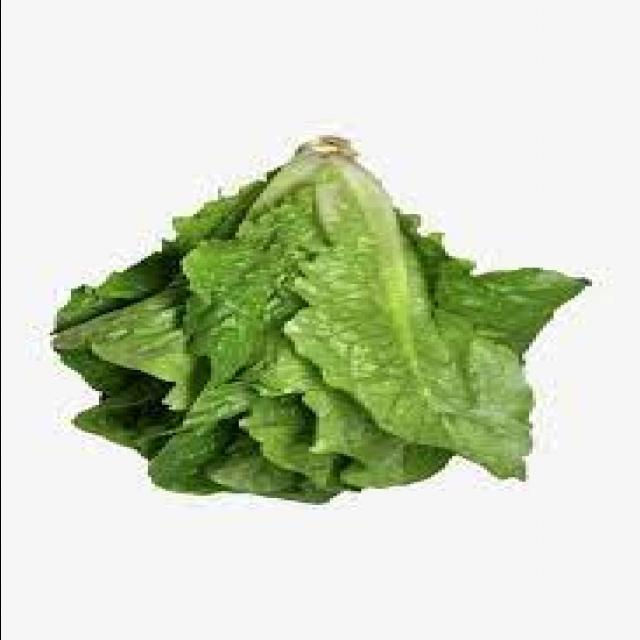healthy: (173, 206, 451, 484)
